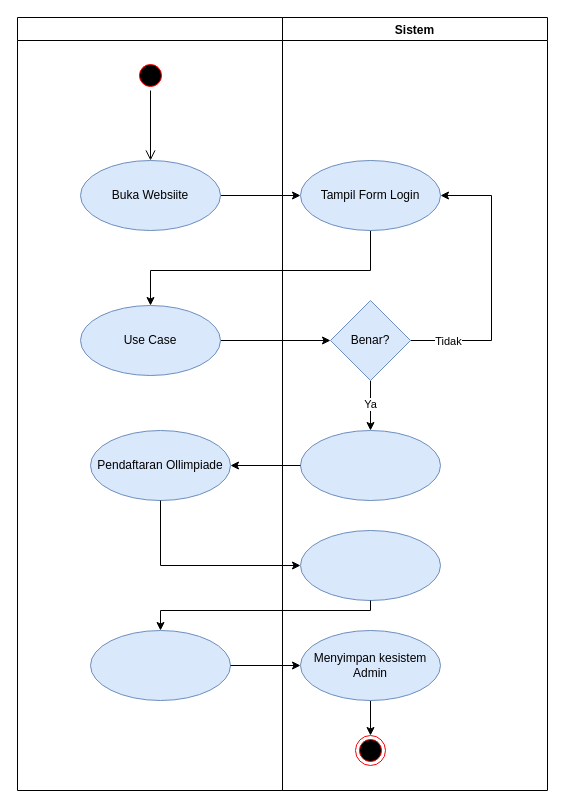
Some shapes in this 565 by 808 pixel diagram are drawn without their labels. Here are the shapes that lost their labels. From the top down, the box of each, then its label:
(16, 16, 282, 790): Admin/Siswa
(300, 430, 440, 500): Tampil Menu Utama
(300, 530, 440, 600): Menampilkan Form Pendaftaran
(90, 630, 230, 700): Mengisi Form pendaftaran
